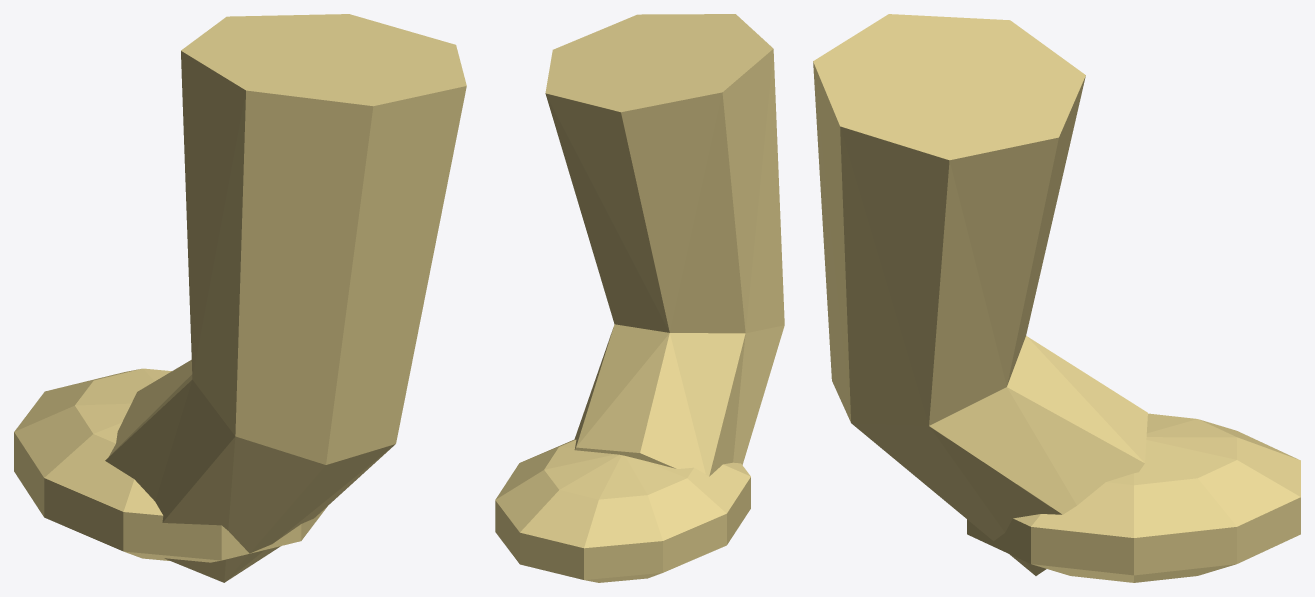
The model's file is gorehulk_c_leg_-1.obj.
3 views of the same model, side by side, from view 1: azimuth 30°, elevation 25°; view 2: azimuth 150°, elevation 25°; view 3: azimuth 270°, elevation 25° (orthographic). The views are drawn at different scales.
Visible parts, largest first — view 1: gorehulk_c_leg_-1; view 2: gorehulk_c_leg_-1; view 3: gorehulk_c_leg_-1.
Boxes of the visible parts, x1,y1,x2,y2 form: gorehulk_c_leg_-1: (14, 14, 466, 582); gorehulk_c_leg_-1: (495, 14, 784, 582); gorehulk_c_leg_-1: (813, 14, 1300, 582).
Bounding box in the file's own units: 0.3338 × 0.5594 × 0.4759.
